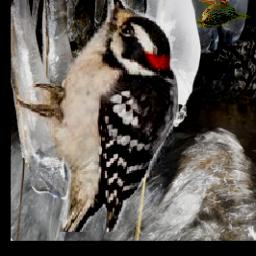Sparrow: (196, 0, 250, 27)
Woodpecker: (17, 0, 179, 233)
